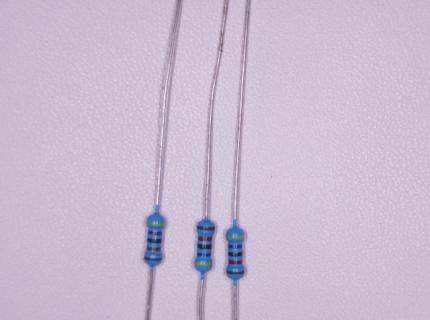Black band: (148, 238, 162, 243), (198, 244, 212, 249), (228, 252, 243, 256)
Brown band: (144, 256, 162, 260), (197, 226, 215, 230), (227, 271, 244, 274)
Red band: (147, 246, 161, 251), (198, 236, 212, 241), (228, 259, 242, 264)
Violet band: (228, 244, 243, 248), (148, 231, 162, 235), (197, 253, 211, 257)
Yellow band: (194, 261, 212, 266), (147, 222, 164, 226), (226, 236, 244, 238)
